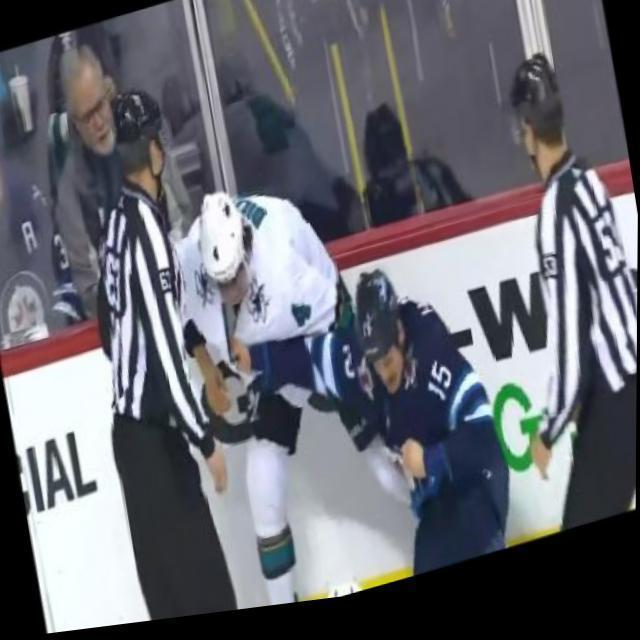fight: (155, 120, 528, 624)
